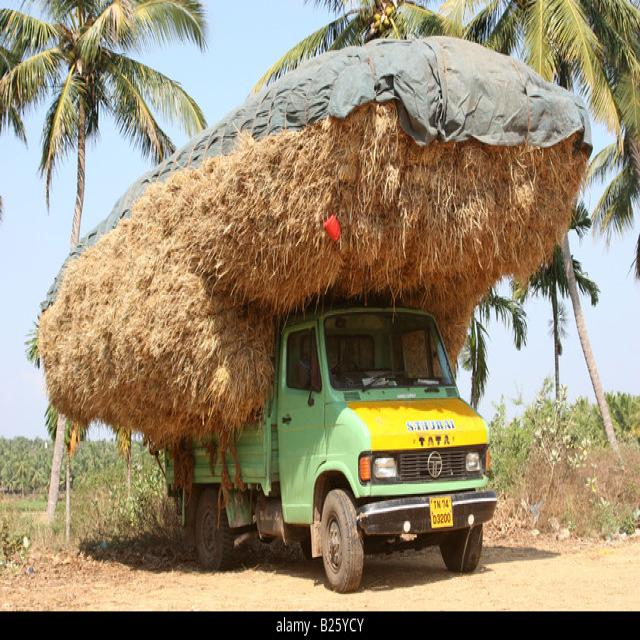normal_truck: (174, 306, 498, 596)
overloaded_truck: (31, 34, 596, 462)
